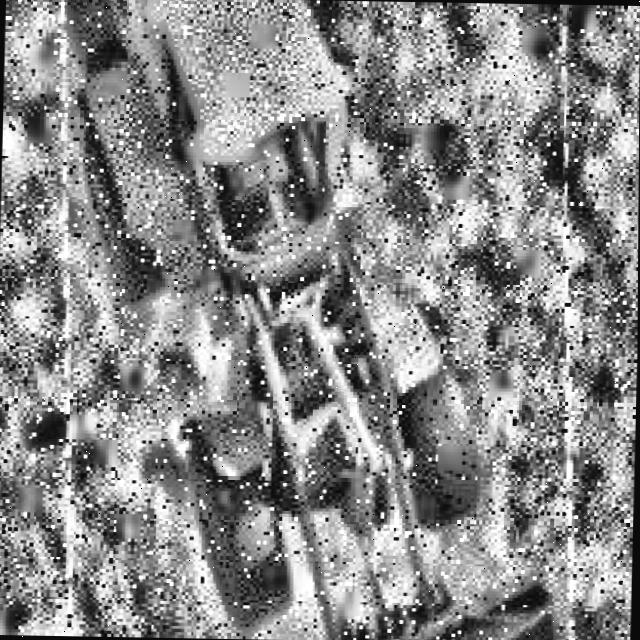buldozerpayloadergrader: (42, 0, 590, 640)
